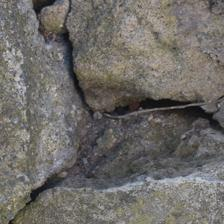Crack: (31, 2, 187, 131)
